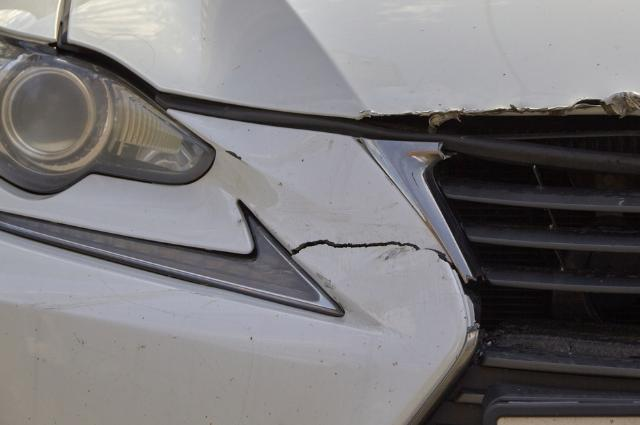Bumper: (246, 143, 476, 385)
